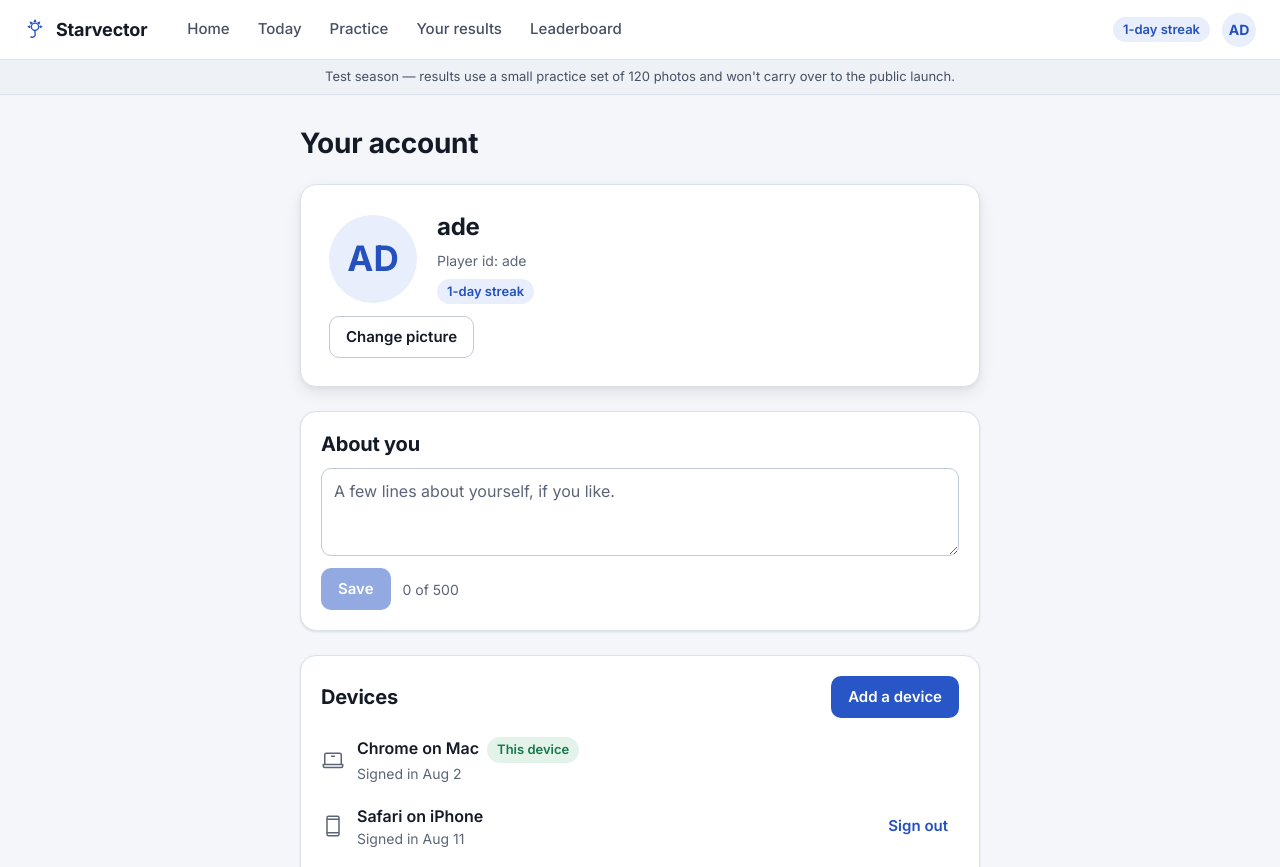
Test: devices and sign-out (spec BR1 §4) › shows a one-time code for a new device
Click the button "Add a device": (895,697) [831, 676, 959, 718]
(page scrolled)
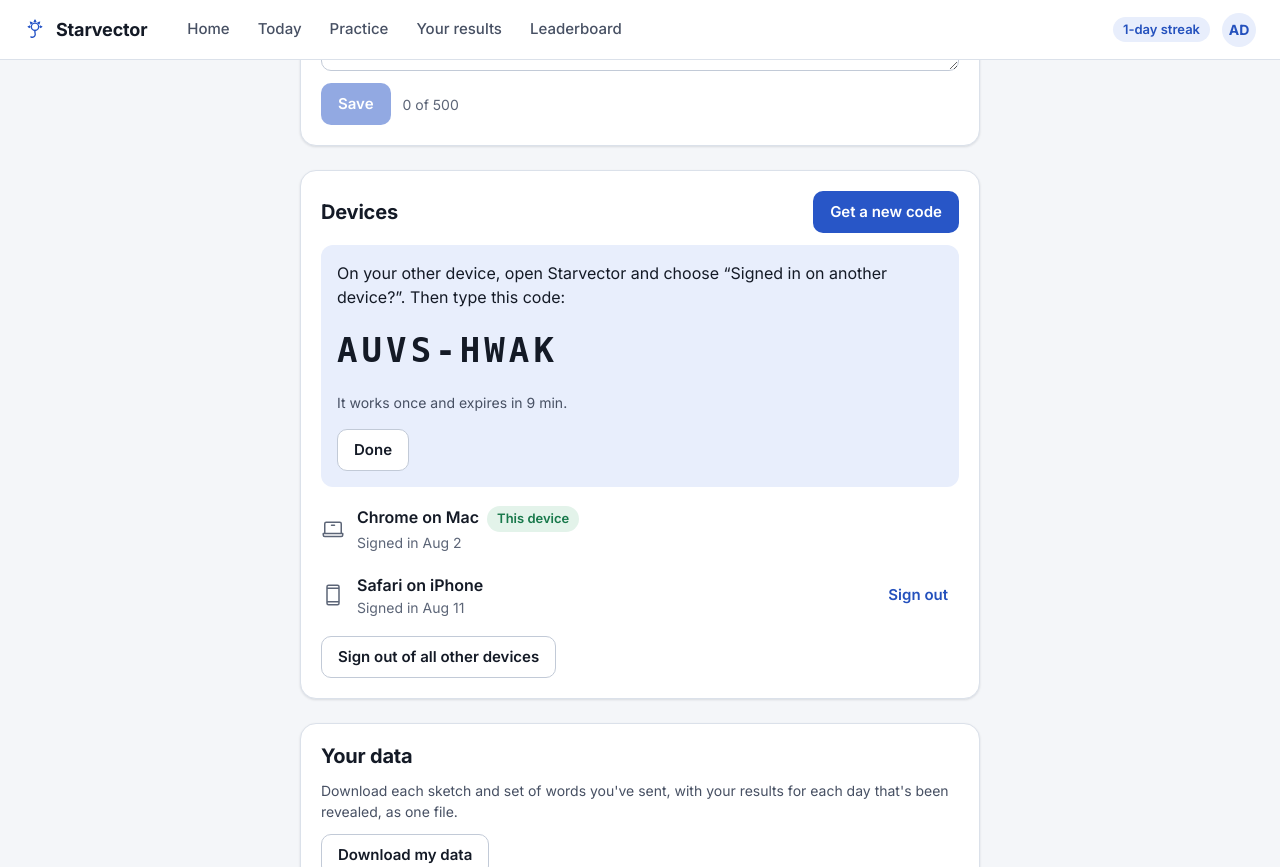
Expected: the text "It works once and expires in 9 min." is shown, [337, 394, 567, 411]
Expected: the button "Get a new code" is shown, [813, 191, 959, 233]
Click the button "Done": (373,450) [337, 429, 409, 471]
(page scrolled)
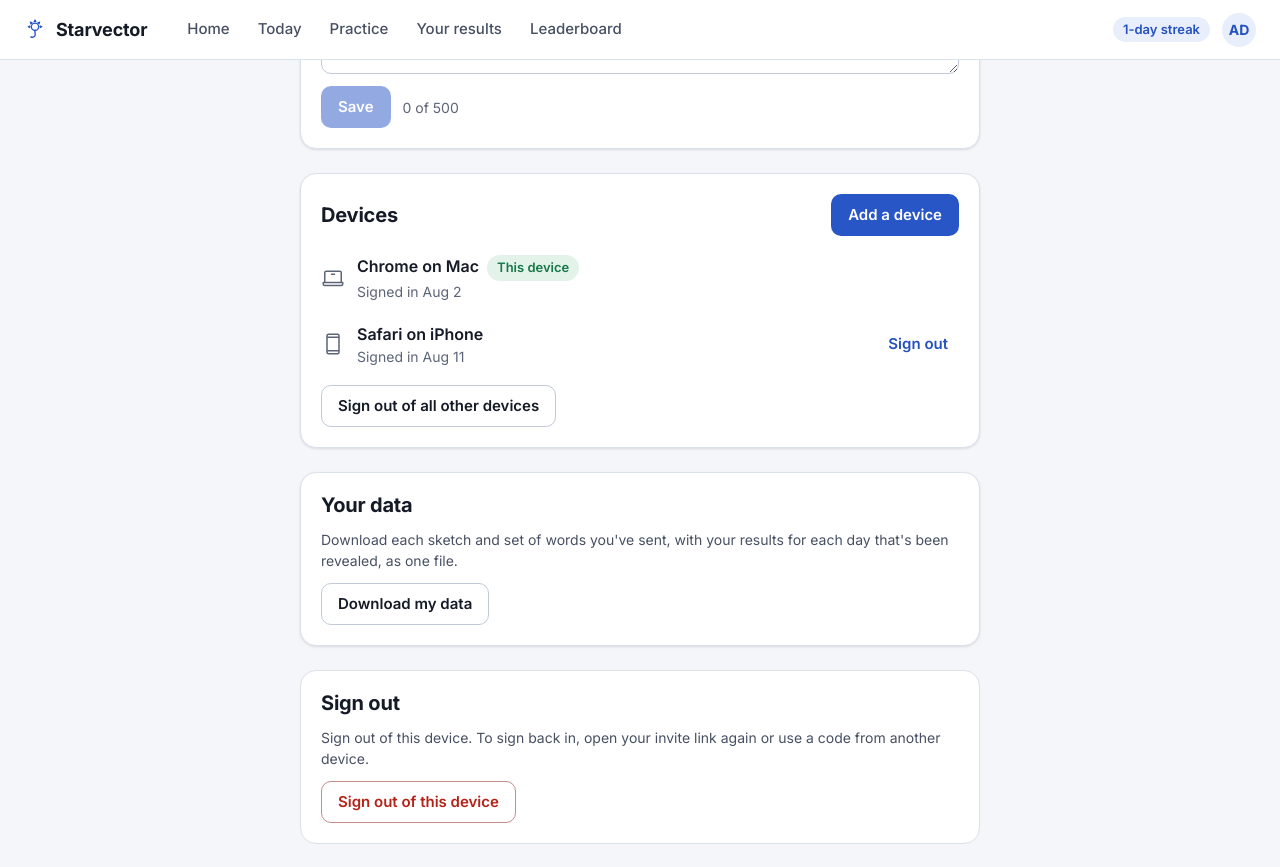
Expected: the text "works once and expires in" is gone
